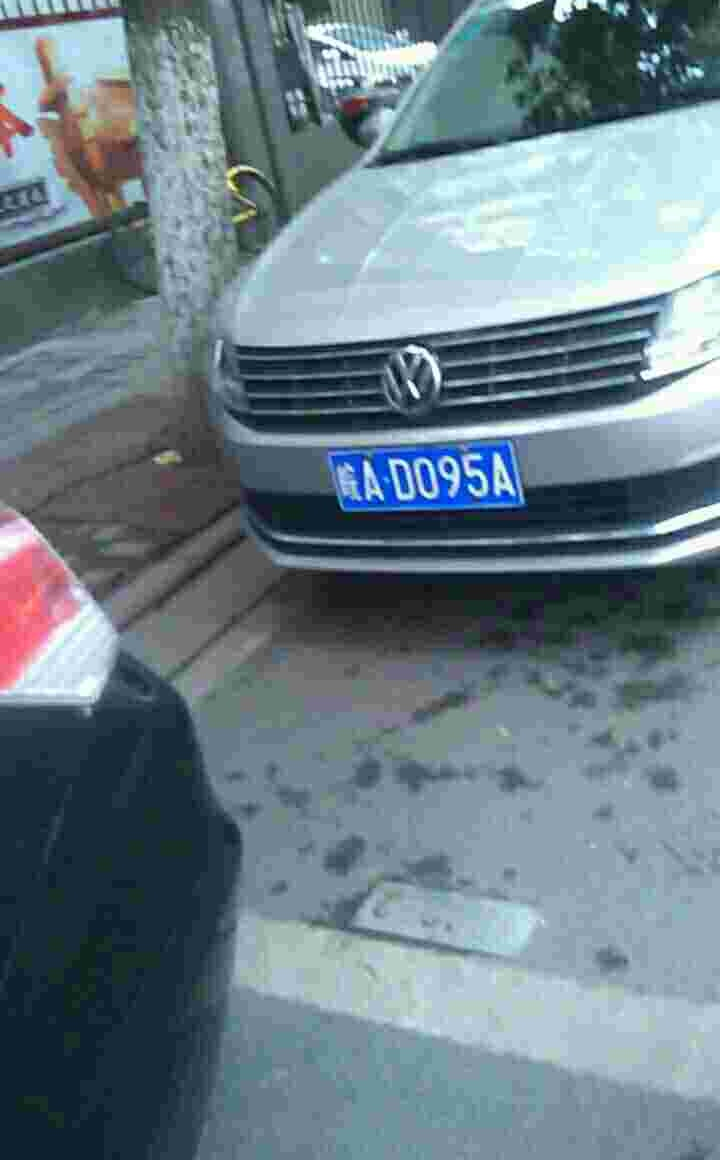license_plate: (323, 437, 529, 519)
